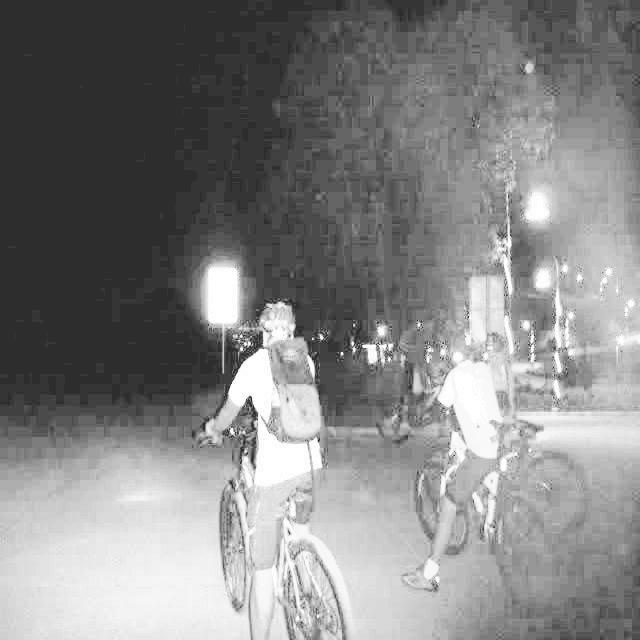Bicycle: (191, 409, 358, 640), (406, 412, 593, 557)
